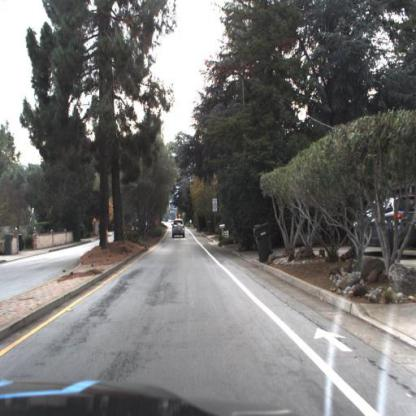car: (348, 192, 416, 260), (167, 215, 188, 243)
